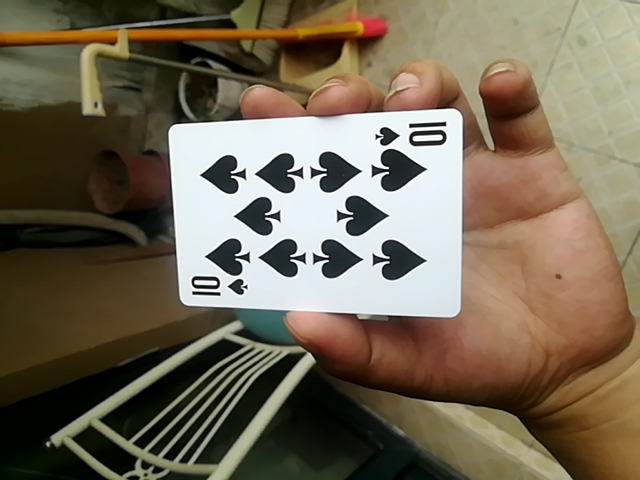ht 10: (164, 108, 468, 322)
